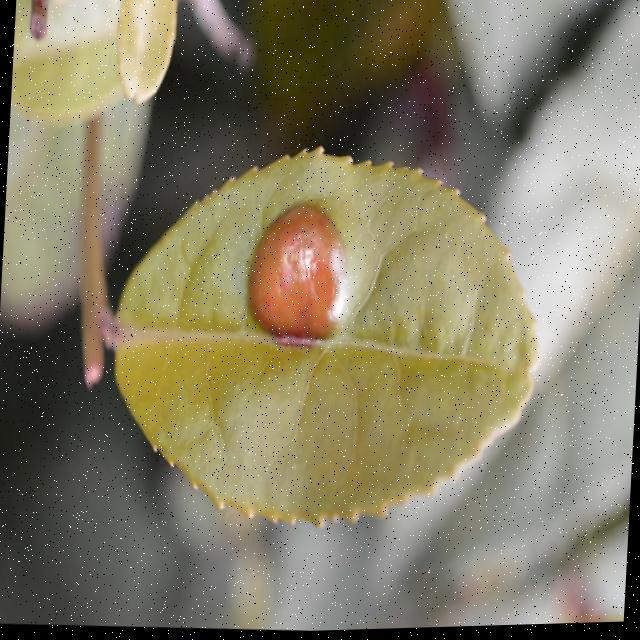Tea cake: (230, 194, 372, 331)
